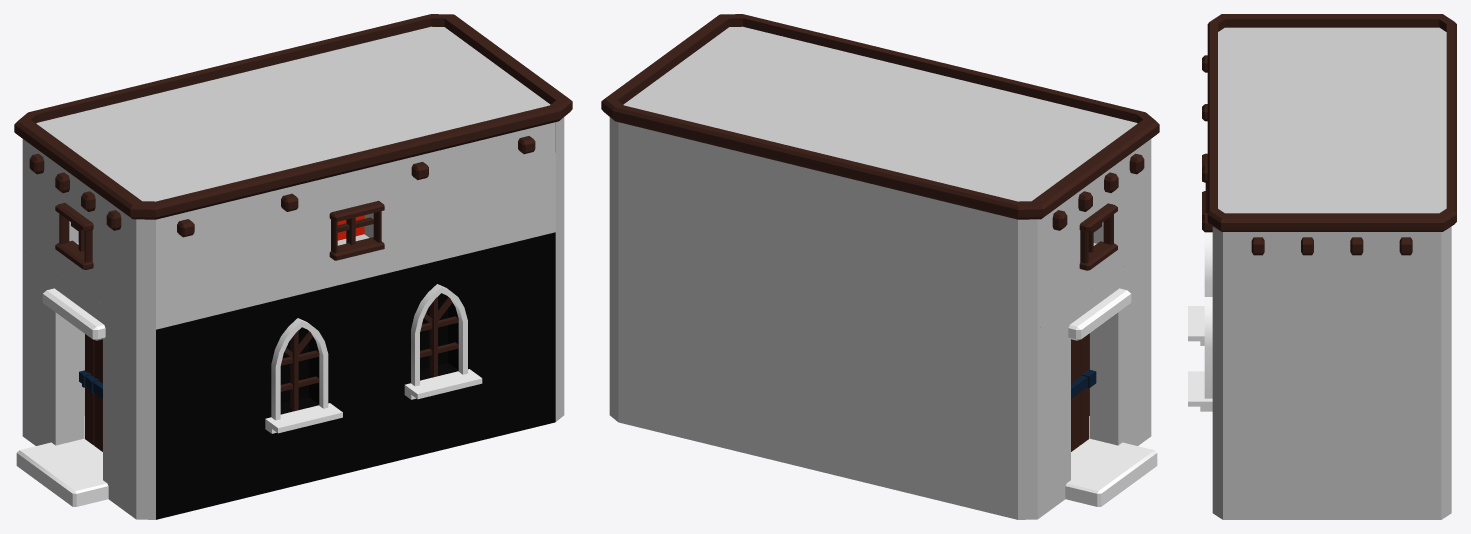
The model's file is civilian_house_39_g.FBX.
3 renders of one model, left to right at view 1: azimuth 30°, elevation 25°; view 2: azimuth 150°, elevation 25°; view 3: azimuth 270°, elevation 25°, orthographic. The views are drawn at different scales.
Parts seen in each view (by area): view 1: civilian_house_39_g; view 2: civilian_house_39_g; view 3: civilian_house_39_g.
Boxes of the visible parts, x1,y1,x2,y2 form: civilian_house_39_g: [14, 14, 572, 519]; civilian_house_39_g: [601, 14, 1159, 519]; civilian_house_39_g: [1188, 14, 1456, 519].
Size of the model in its own units: 661 by 423 by 340.
